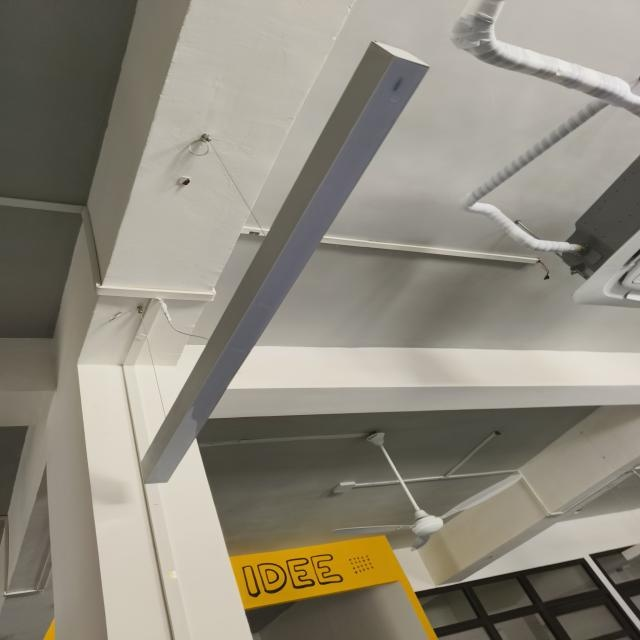fluorescent tube: (134, 35, 439, 493)
